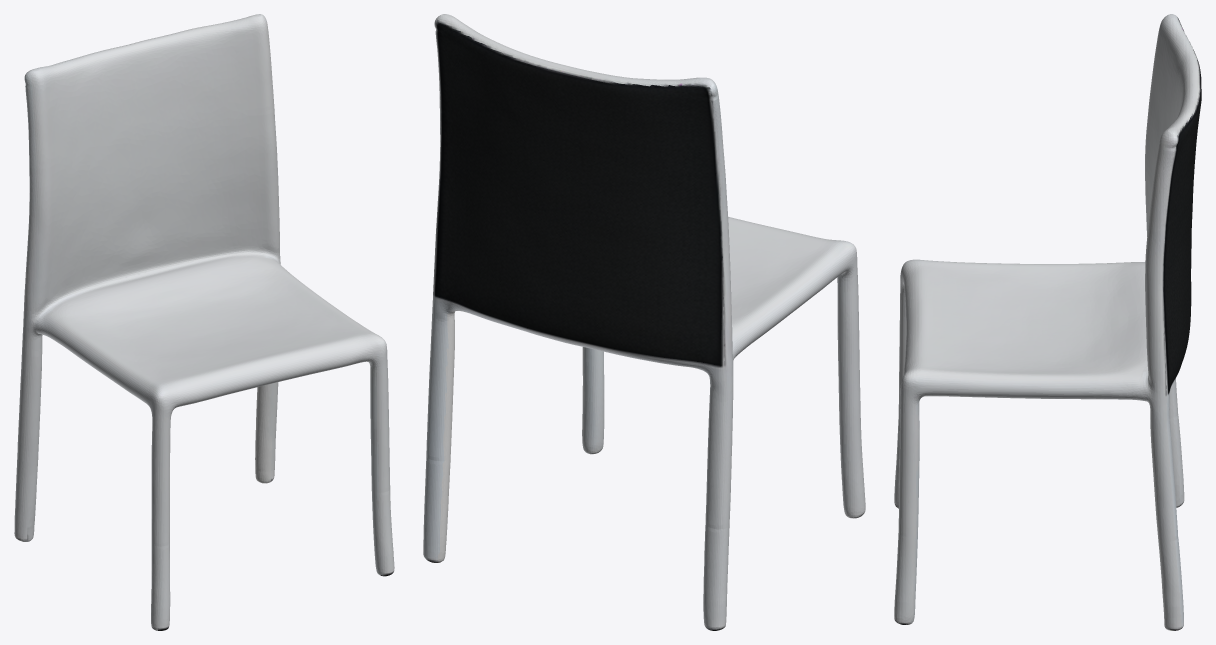
3 renders of one model, left to right at view 1: azimuth 30°, elevation 25°; view 2: azimuth 150°, elevation 25°; view 3: azimuth 270°, elevation 25°, orthographic. The views are drawn at different scales.
Visible parts, largest first — view 1: tmpcmiqaxo0.ply; view 2: tmpcmiqaxo0.ply; view 3: tmpcmiqaxo0.ply.
Boxes of the visible parts, x1,y1,x2,y2 form: tmpcmiqaxo0.ply: [14, 14, 394, 630]; tmpcmiqaxo0.ply: [423, 14, 865, 630]; tmpcmiqaxo0.ply: [894, 14, 1201, 630].
Bounding box in the file's own units: 0.5762 × 1 × 0.5636.
1 material, 1 textured.
